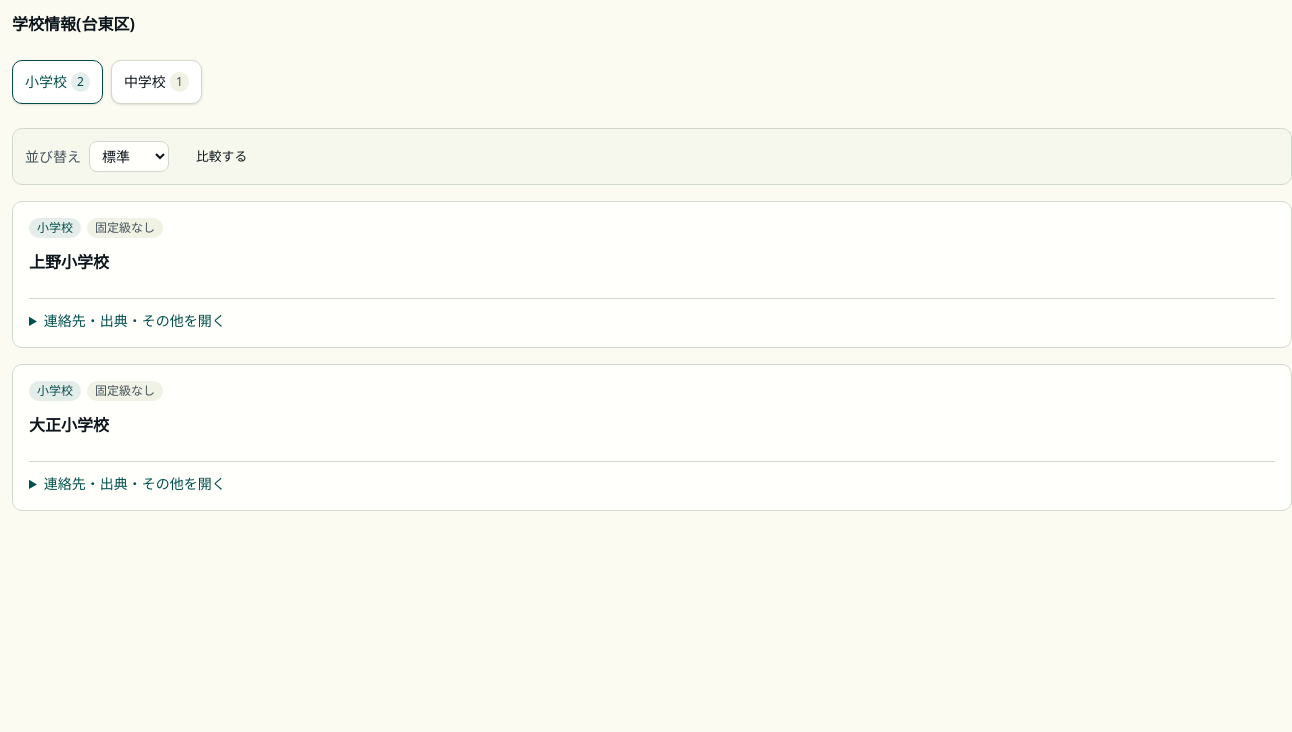
it: SchoolInfoSection: 小学校・中学校のサブタブ分割 › サブタブを切り替えると、比較のための選択状態はリセットされる
Click the button "比較する": [222, 156] box x1=185 y1=142 x2=258 y2=170
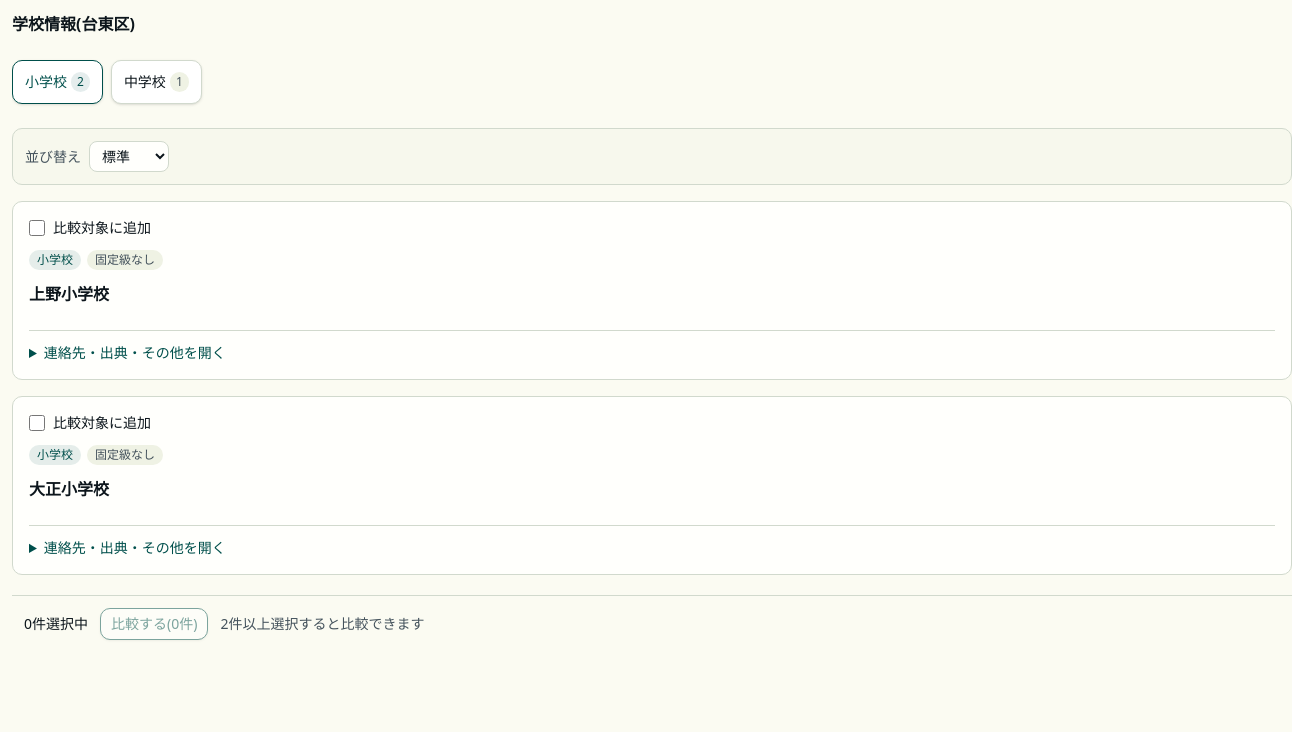
Click the 1st checkbox labelled "比較対象に追加": [37, 228] box x1=29 y1=220 x2=45 y2=236
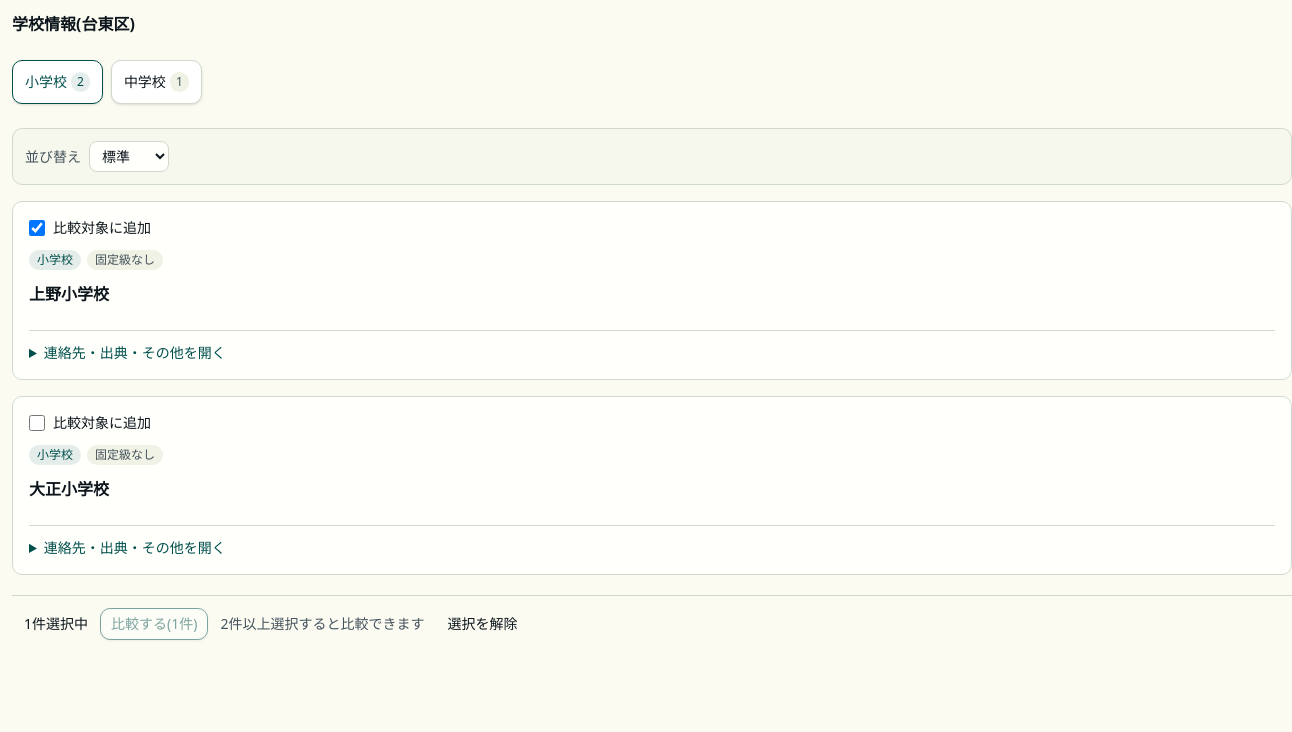
Now the button "比較する(1件)" is shown, box x1=100 y1=608 x2=208 y2=640
Click the tab "中学校 1": [156, 82] box x1=111 y1=60 x2=202 y2=104
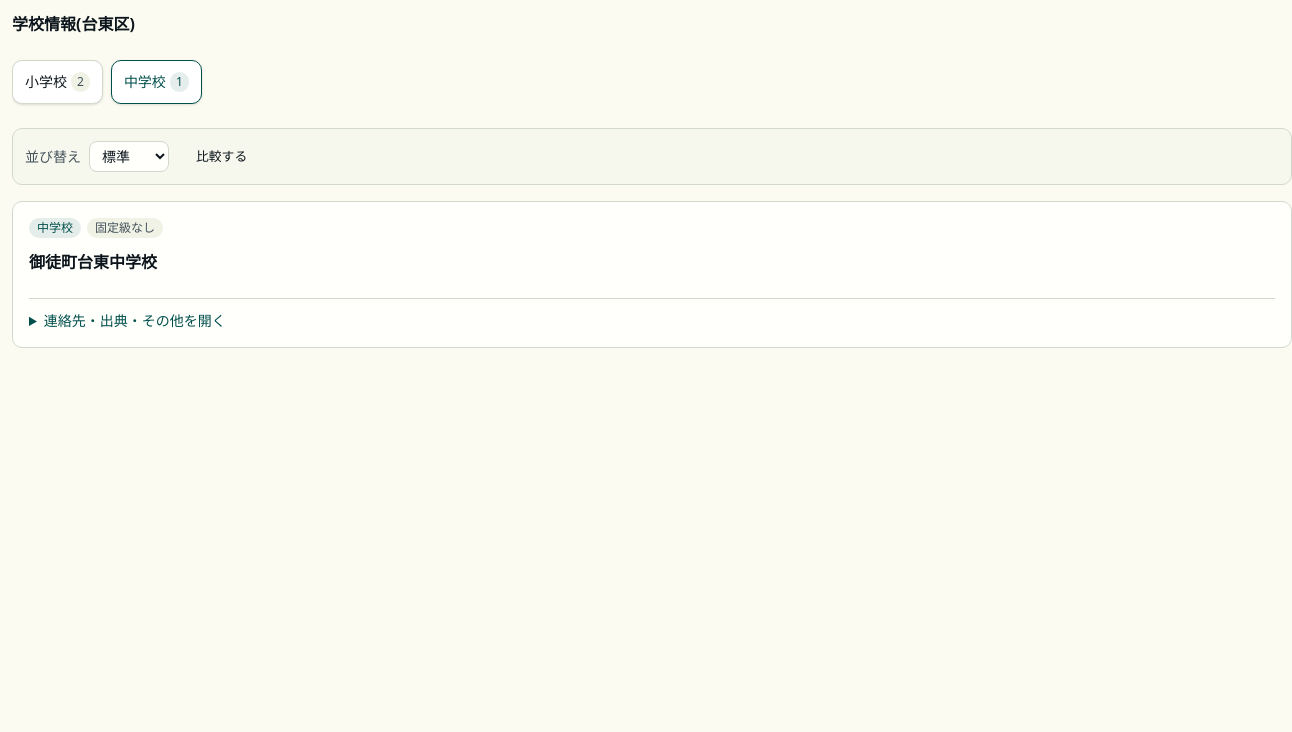
Expected: the button "比較する" is shown, x1=185 y1=142 x2=258 y2=170
Now the button "比較する(" is gone
